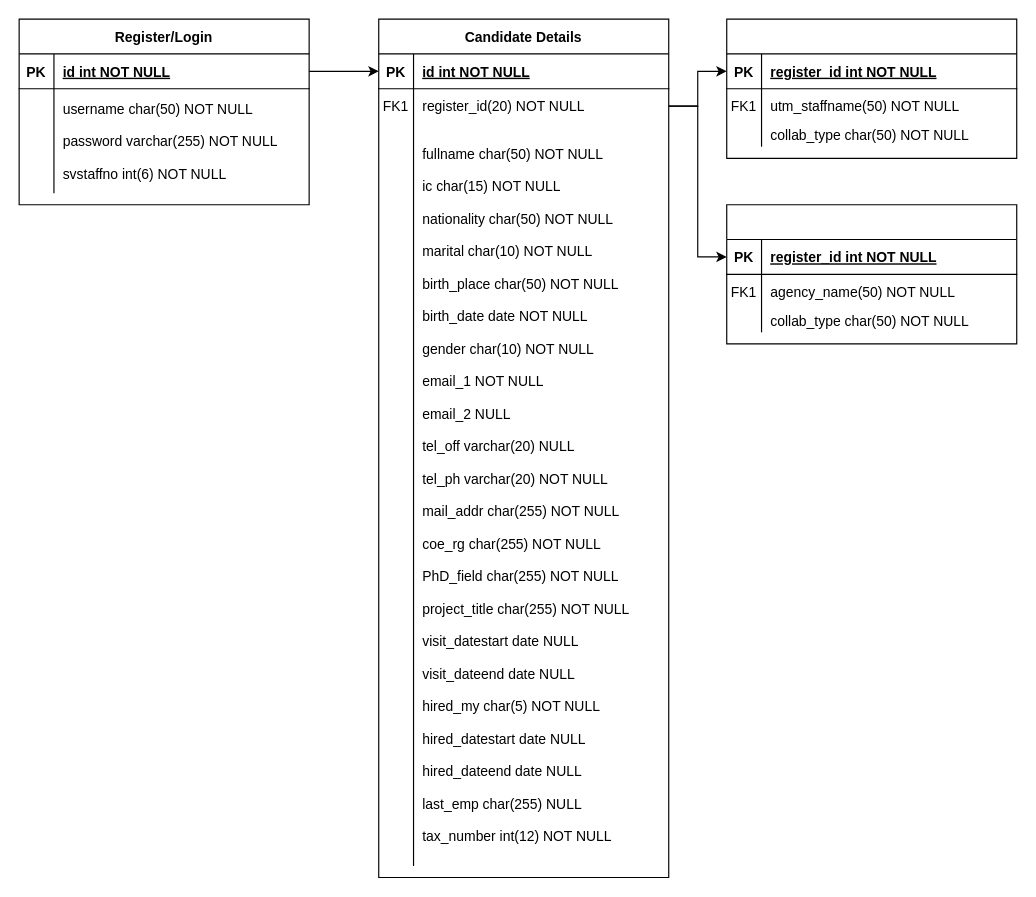
The diagram is 1036 pixels wide and 897 high, and some of its shapes have lost their labels. Each missing label, with the box of its shape:
Other Collaboration Details: (726, 204, 1017, 344)
UTM Collaboration Details: (726, 18, 1017, 158)
